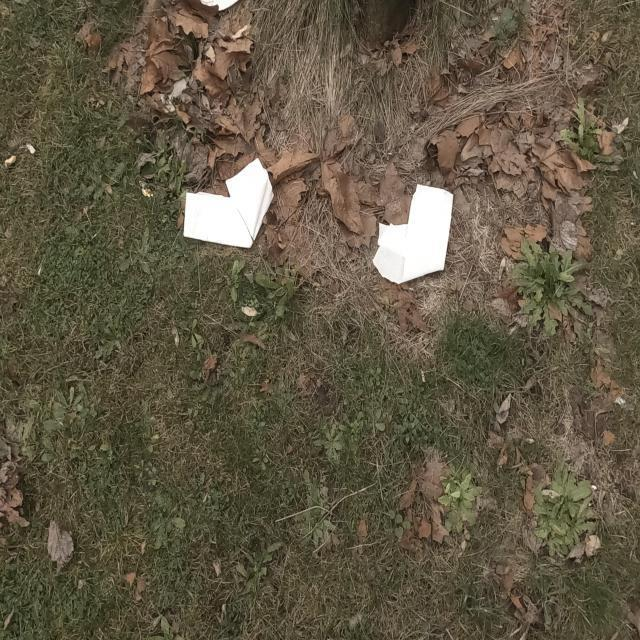Paper: (181, 156, 282, 246), (371, 180, 455, 285)
